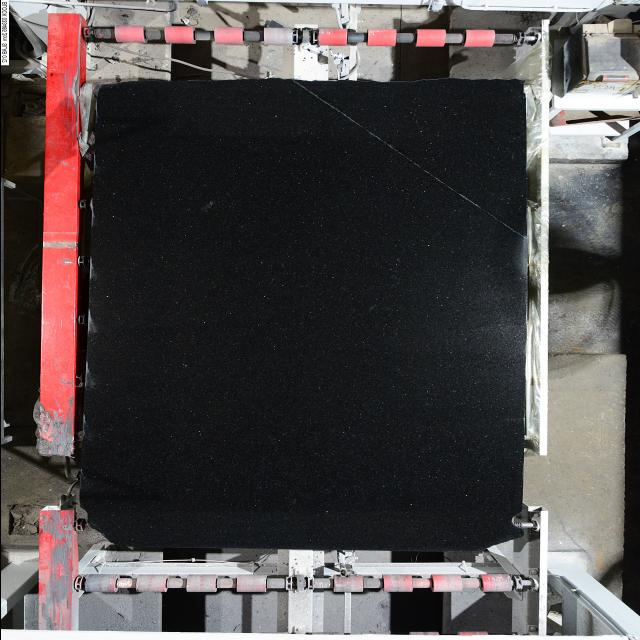chapa: (82, 79, 527, 551), (291, 80, 525, 238)
veio: (509, 510, 531, 531)
